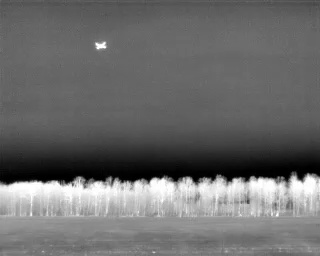DRONE: (91, 37, 111, 55)
